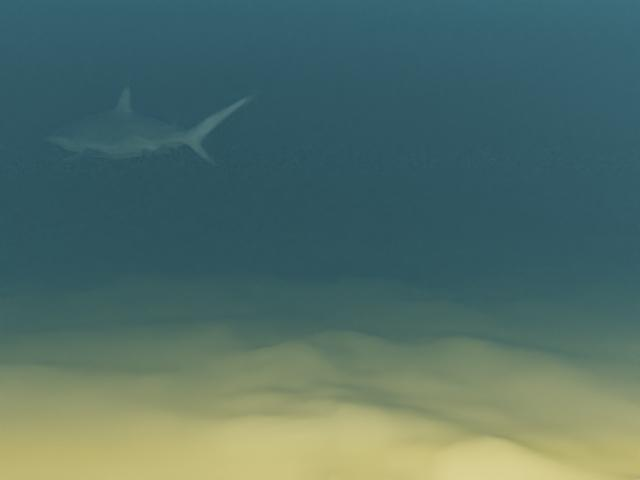Carribean Shark.001: (47, 81, 260, 167)
